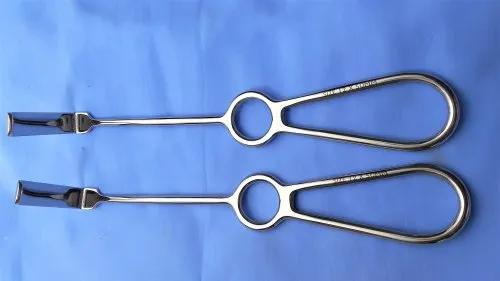Langenbach Retractor: (6, 56, 462, 153), (11, 160, 475, 248)
